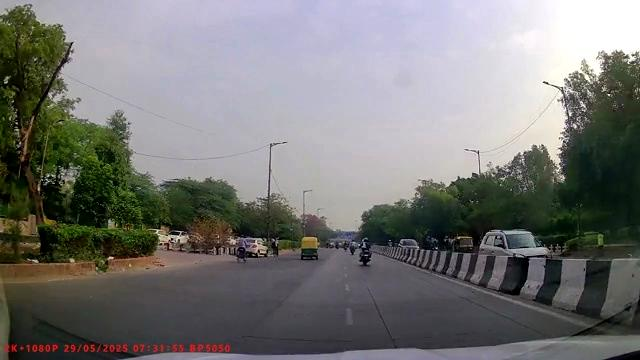motorcycle_with_helmet: (358, 237, 373, 266)
